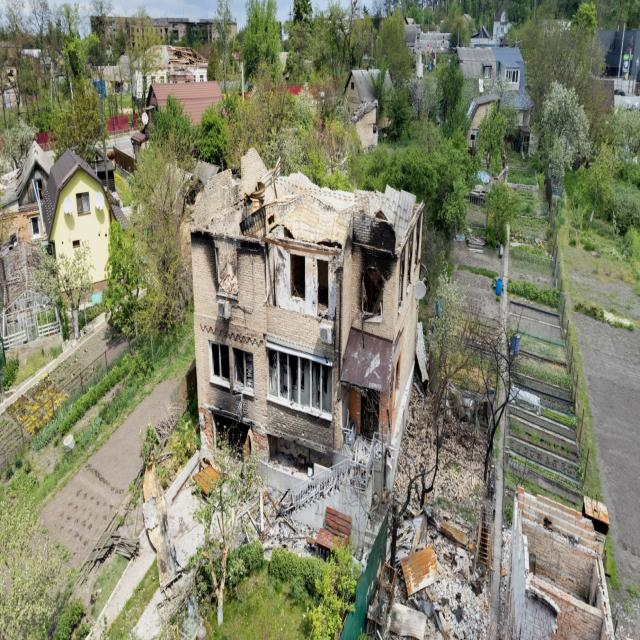broken_window: (266, 342, 333, 421), (361, 264, 384, 324), (208, 339, 230, 390), (232, 346, 254, 397), (290, 252, 305, 301)
building: (189, 145, 426, 557)
roof: (189, 146, 421, 260)
